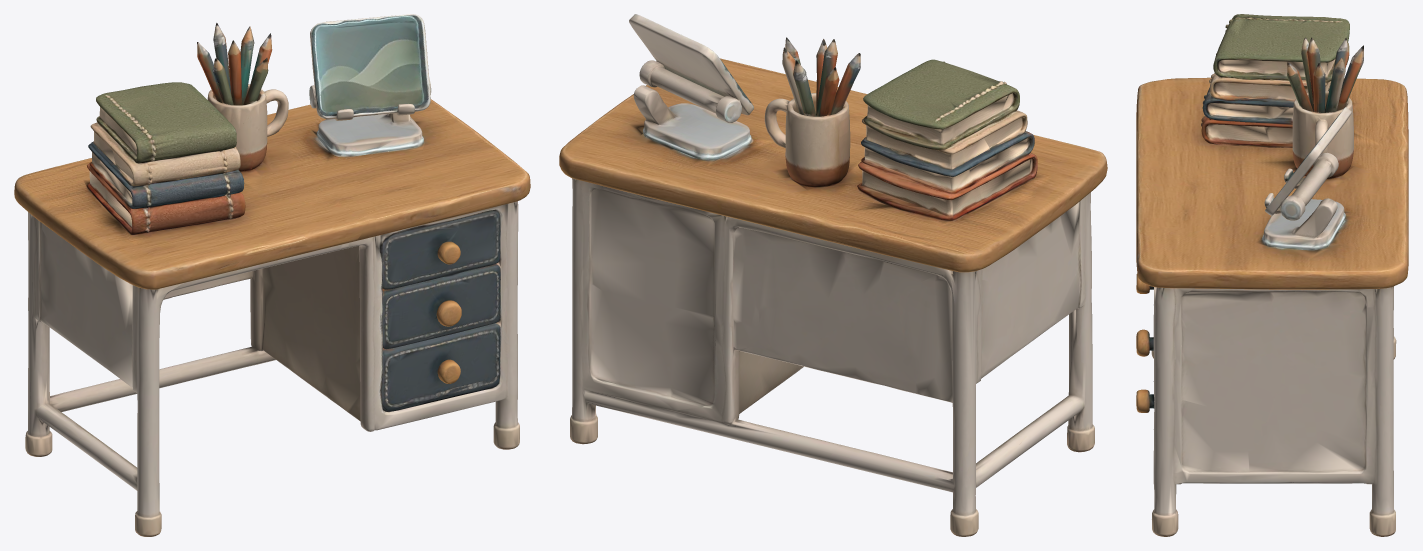
Rendered from teacher-desk.high.glb.
The picture shows the model from 3 angles, left to right: view 1: azimuth 30°, elevation 25°; view 2: azimuth 150°, elevation 25°; view 3: azimuth 270°, elevation 25°; orthographic projection. The views are drawn at different scales.
Parts seen in each view (by area): view 1: tripo_node_ec777724-02c2-4702-8629-febdb65ed086; view 2: tripo_node_ec777724-02c2-4702-8629-febdb65ed086; view 3: tripo_node_ec777724-02c2-4702-8629-febdb65ed086.
Part boxes in pixels (x1,y1,x2,y2): tripo_node_ec777724-02c2-4702-8629-febdb65ed086: (14, 14, 530, 536); tripo_node_ec777724-02c2-4702-8629-febdb65ed086: (559, 14, 1107, 536); tripo_node_ec777724-02c2-4702-8629-febdb65ed086: (1136, 14, 1408, 536).
Size of the model in its own units: 0.8082 by 0.76 by 0.4707.
Materials: 1 (1 with a texture image).
